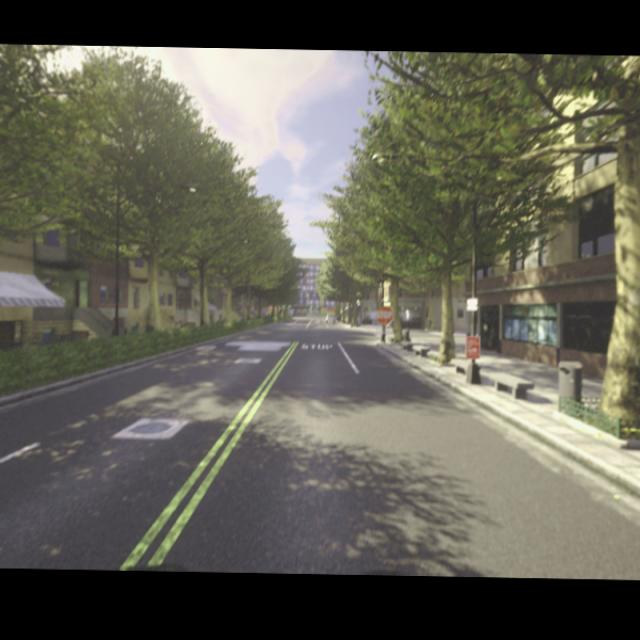stop sign: (371, 304, 398, 328)
